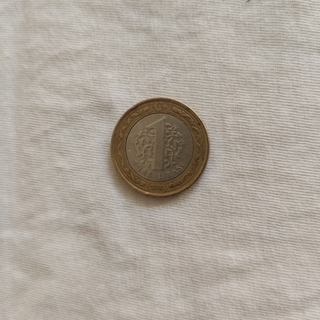1TL: (108, 94, 211, 201)
